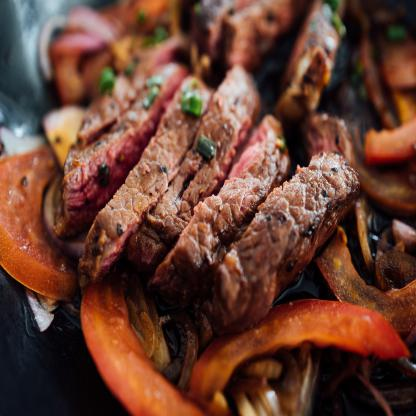Carne: (84, 68, 210, 284), (142, 56, 262, 270), (230, 143, 362, 318), (161, 106, 289, 280), (65, 47, 184, 230)
